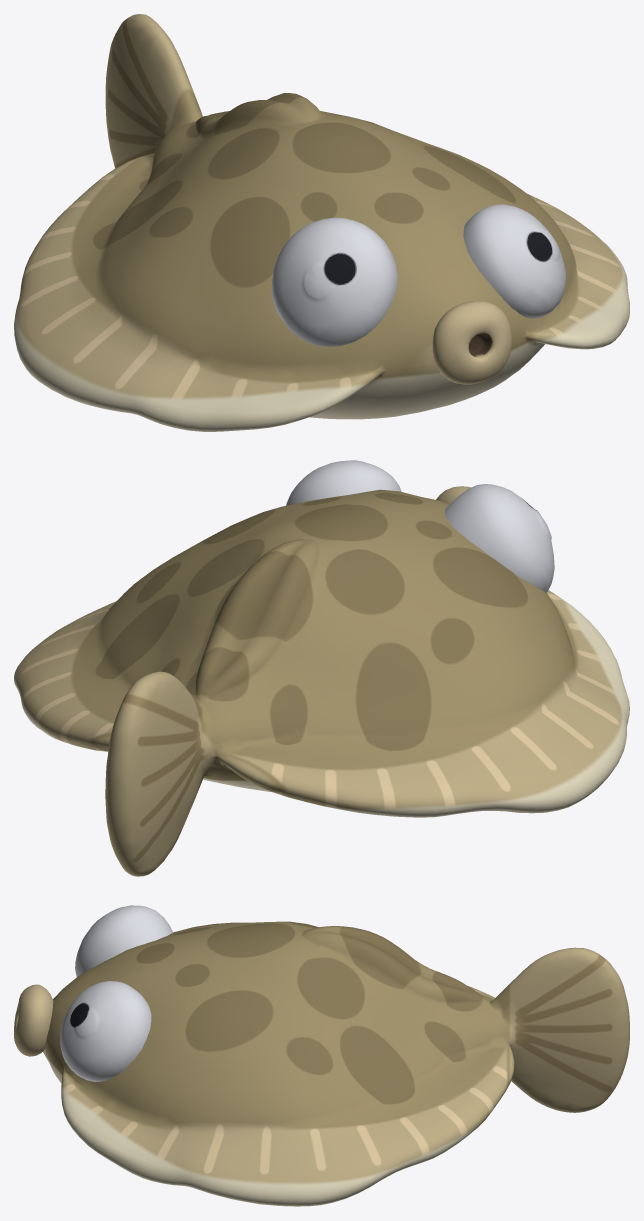
The model's file is flatfish_colored.glb.
The picture shows the model from 3 angles, top to bottom: view 1: azimuth 30°, elevation 25°; view 2: azimuth 150°, elevation 25°; view 3: azimuth 270°, elevation 25°; orthographic projection. The views are drawn at different scales.
Parts seen in each view (by area): view 1: flatfish_colored; view 2: flatfish_colored; view 3: flatfish_colored.
Part boxes in pixels (box(x1,y1,x2,y2)): flatfish_colored: box(14, 14, 629, 431); flatfish_colored: box(14, 460, 629, 876); flatfish_colored: box(14, 905, 629, 1206).
Size of the model in its own units: 0.8657 by 0.3511 by 0.9995.
Materials: 1 (1 with a texture image).
